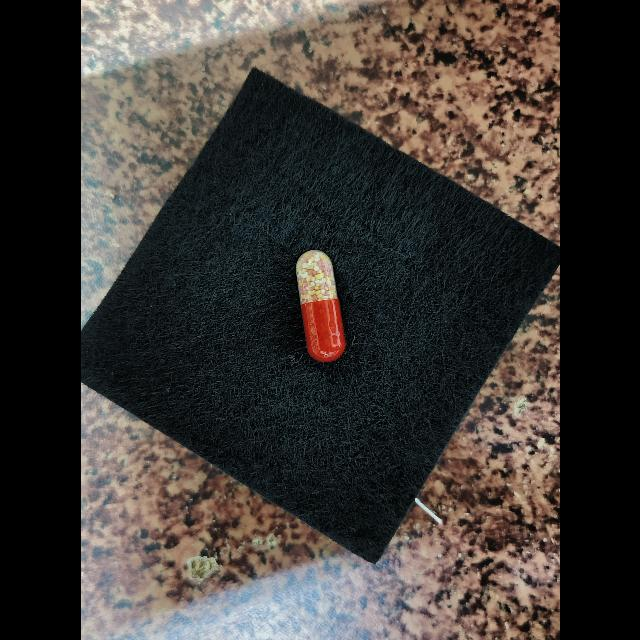Intact Capsule: (295, 250, 345, 362)
